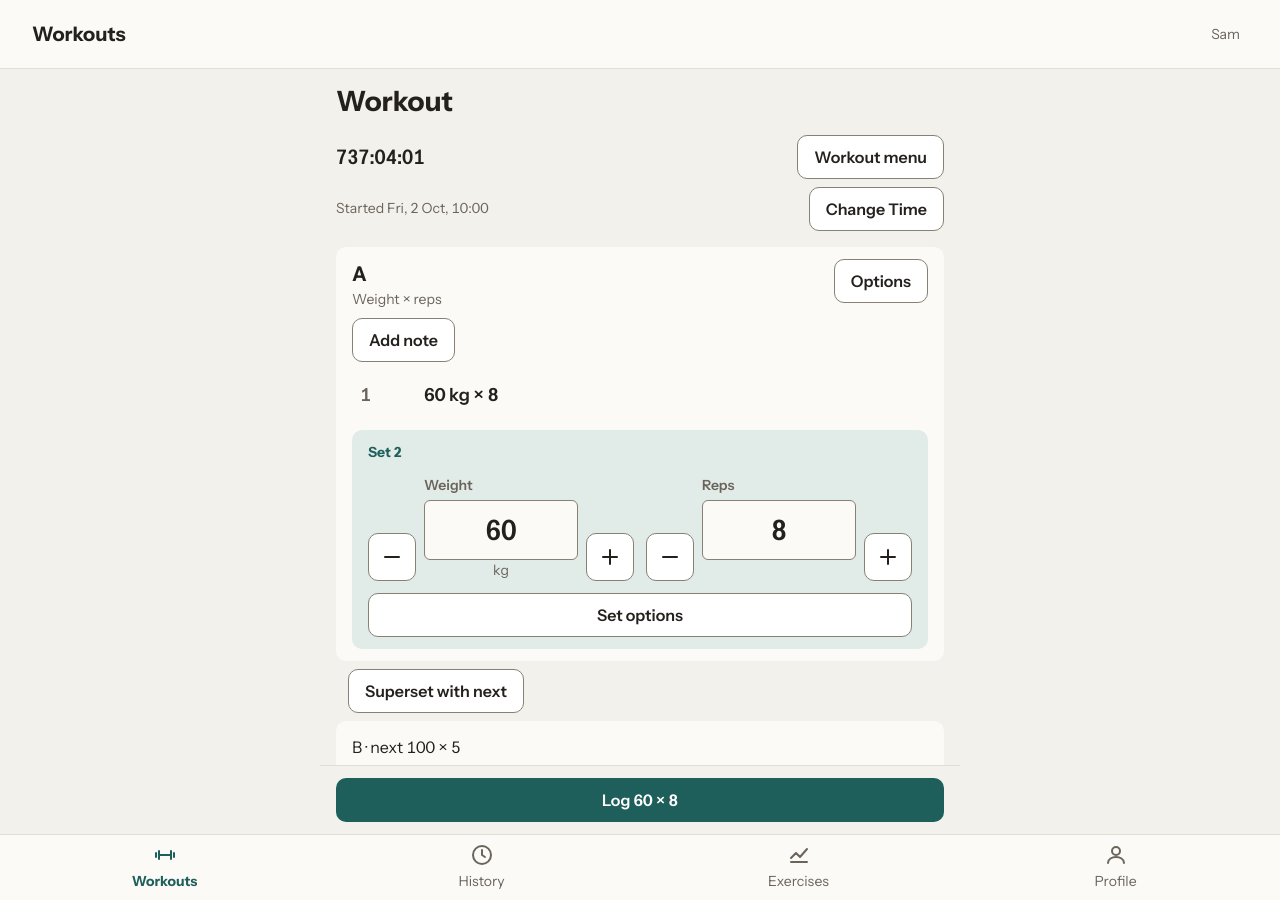
Scenario: 17.1 AC14 — auto-advance through the bar › an extra set and an open exercise leave current alone
Check: the heading "Workout" is shown, box [336, 84, 453, 118]
Click the button "Log 60 × 8" at (640, 800), box [336, 778, 944, 822]
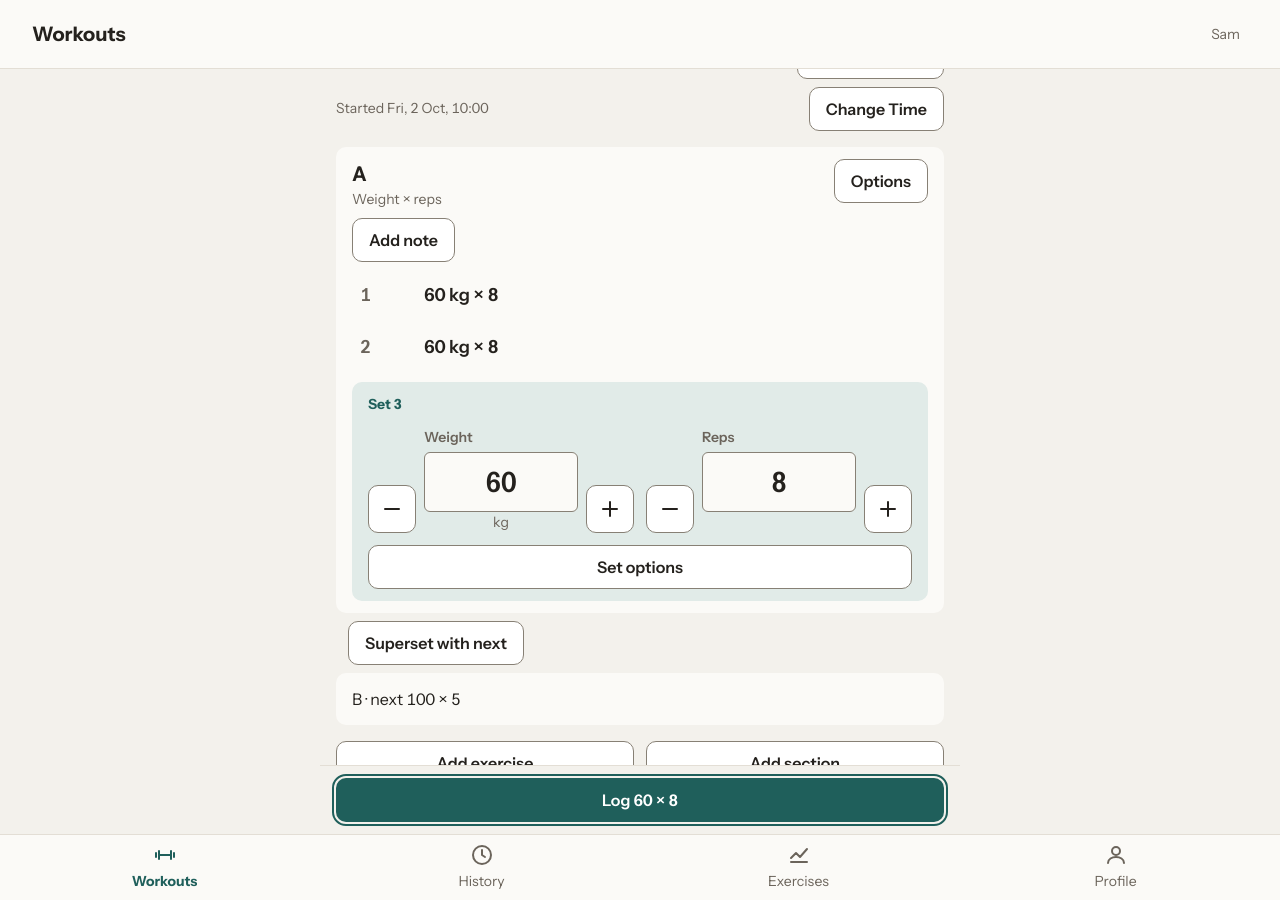
Check: the number of list items is 2, box [352, 274, 928, 318]; [352, 326, 928, 370]
